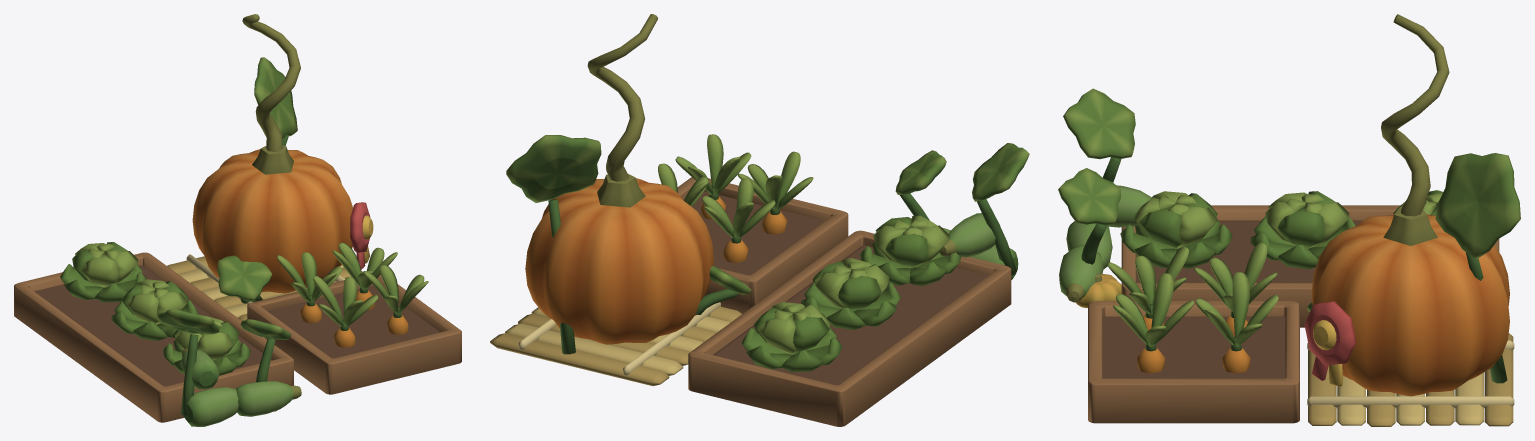
The model's file is PRD_Vegetable_Garden_A_T2.fbx.
The picture shows the model from 3 angles, left to right: view 1: azimuth 30°, elevation 25°; view 2: azimuth 150°, elevation 25°; view 3: azimuth 270°, elevation 25°; orthographic projection. The views are drawn at different scales.
Parts seen in each view (by area): view 1: PRD_Vegetable_Garden_A_T2_Body_LOD0, PRD_Vegetable_Garden_A_T2_CabbageBed_LOD0, PRD_Vegetable_Garden_A_T2_CarrotRowInner_LOD0, PRD_Vegetable_Garden_A_T2_CarrotRowOuter_LOD0; view 2: PRD_Vegetable_Garden_A_T2_Body_LOD0, PRD_Vegetable_Garden_A_T2_CabbageBed_LOD0, PRD_Vegetable_Garden_A_T2_CarrotRowInner_LOD0, PRD_Vegetable_Garden_A_T2_CarrotRowOuter_LOD0; view 3: PRD_Vegetable_Garden_A_T2_Body_LOD0, PRD_Vegetable_Garden_A_T2_CabbageBed_LOD0, PRD_Vegetable_Garden_A_T2_CarrotRowOuter_LOD0, PRD_Vegetable_Garden_A_T2_CarrotRowInner_LOD0.
Boxes of the visible parts, left/top/right/bottom form: PRD_Vegetable_Garden_A_T2_Body_LOD0: left=14, top=14, right=461, bottom=426; PRD_Vegetable_Garden_A_T2_CabbageBed_LOD0: left=60, top=242, right=250, bottom=375; PRD_Vegetable_Garden_A_T2_CarrotRowInner_LOD0: left=277, top=252, right=378, bottom=326; PRD_Vegetable_Garden_A_T2_CarrotRowOuter_LOD0: left=332, top=242, right=428, bottom=314; PRD_Vegetable_Garden_A_T2_Body_LOD0: left=490, top=14, right=1029, bottom=426; PRD_Vegetable_Garden_A_T2_CabbageBed_LOD0: left=741, top=215, right=961, bottom=372; PRD_Vegetable_Garden_A_T2_CarrotRowInner_LOD0: left=702, top=151, right=813, bottom=237; PRD_Vegetable_Garden_A_T2_CarrotRowOuter_LOD0: left=658, top=134, right=751, bottom=206; PRD_Vegetable_Garden_A_T2_Body_LOD0: left=1058, top=14, right=1520, bottom=426; PRD_Vegetable_Garden_A_T2_CabbageBed_LOD0: left=1120, top=190, right=1443, bottom=269; PRD_Vegetable_Garden_A_T2_CarrotRowOuter_LOD0: left=1113, top=272, right=1278, bottom=346; PRD_Vegetable_Garden_A_T2_CarrotRowInner_LOD0: left=1107, top=242, right=1277, bottom=313.
Size of what is drawn, in the model's own units: 3.51 by 3.08 by 3.64.
